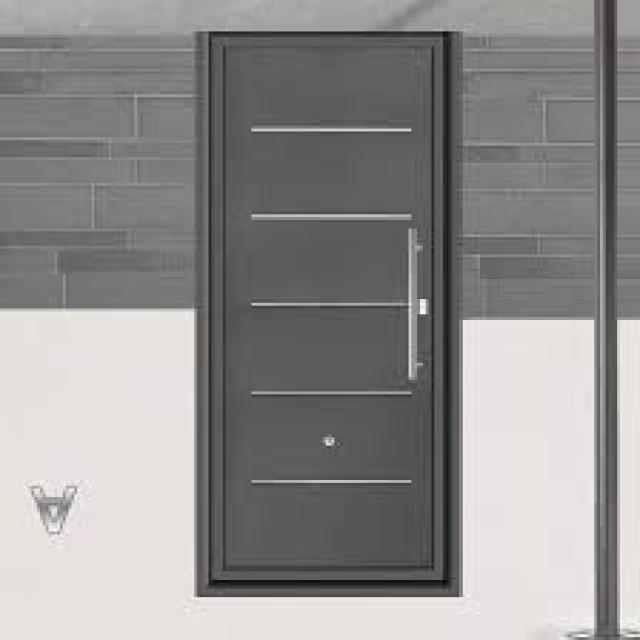door: (203, 32, 454, 594)
